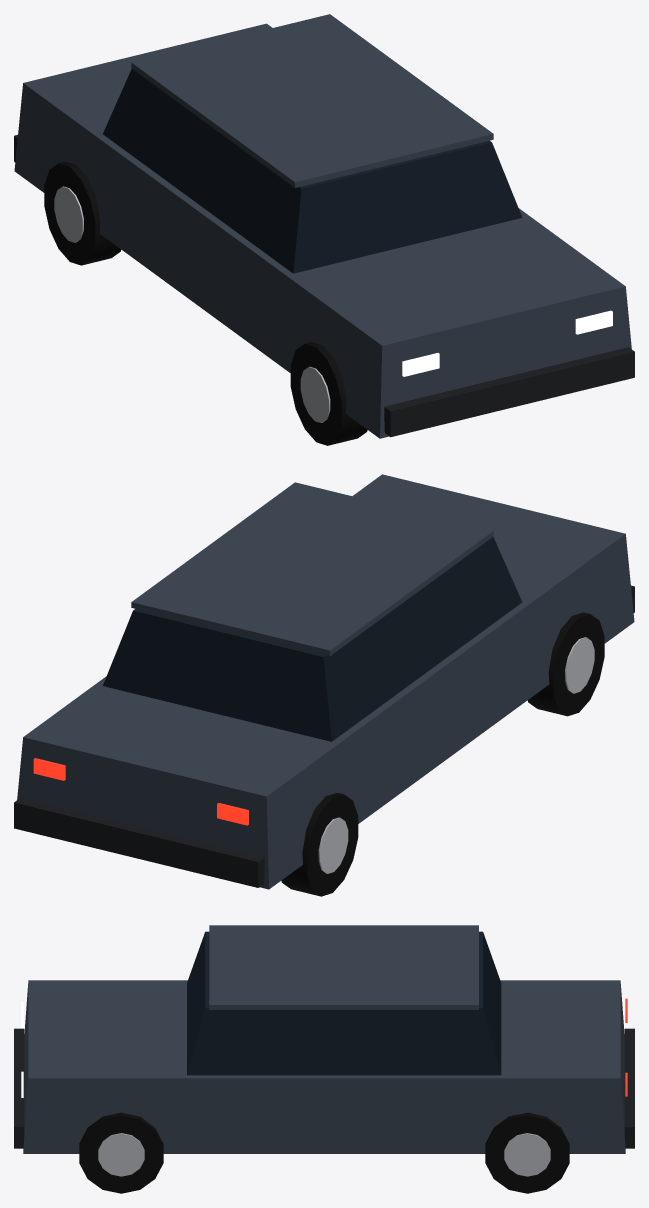
File: sedan-5.glb
3 views of the same model, one above another, from view 1: azimuth 30°, elevation 25°; view 2: azimuth 150°, elevation 25°; view 3: azimuth 270°, elevation 25° (orthographic). The views are drawn at different scales.
Size of the model in its own units: 1.93 by 1.48 by 4.74.
